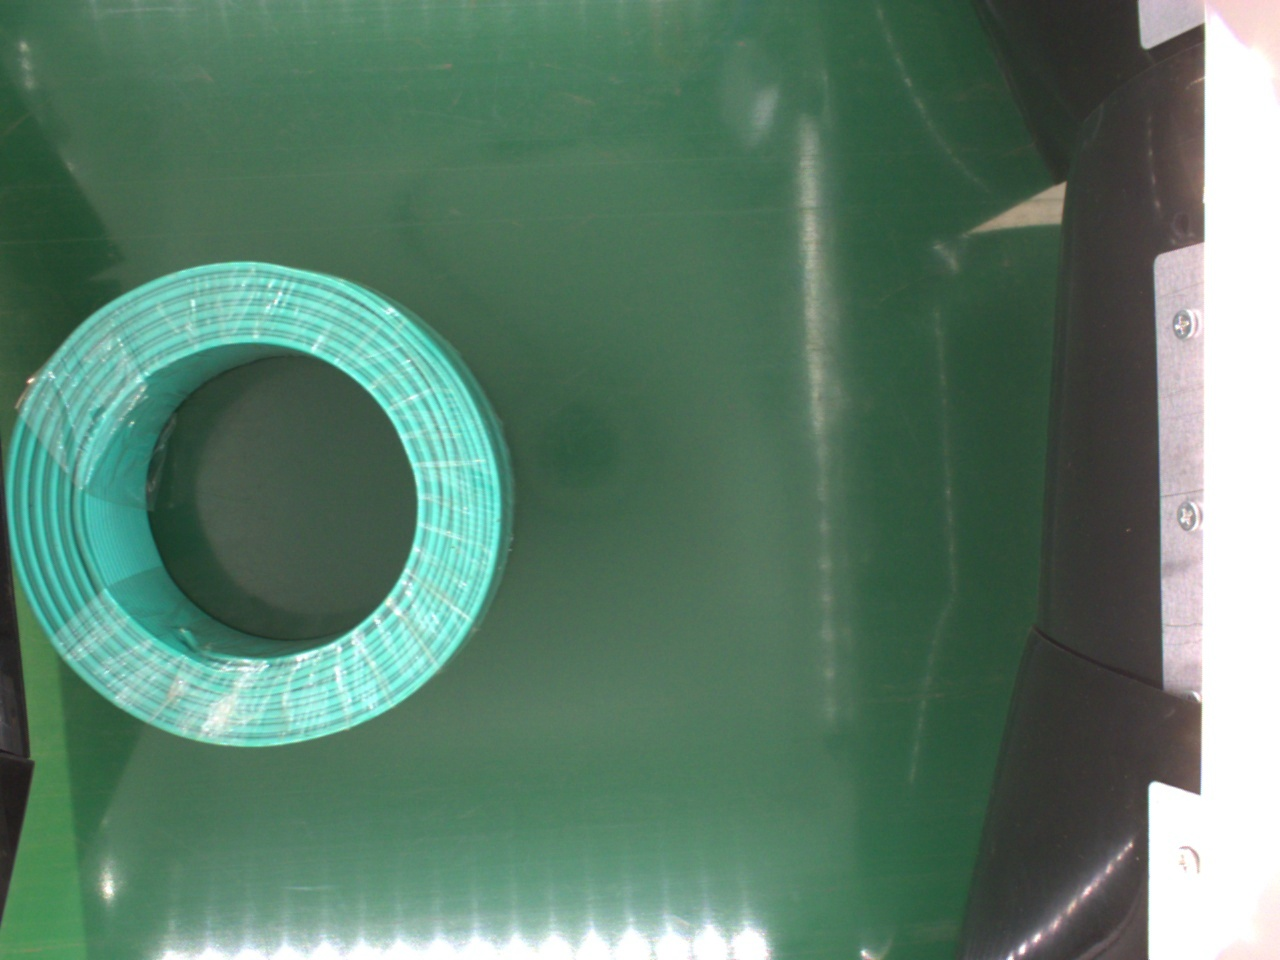green: (6, 258, 510, 751)
